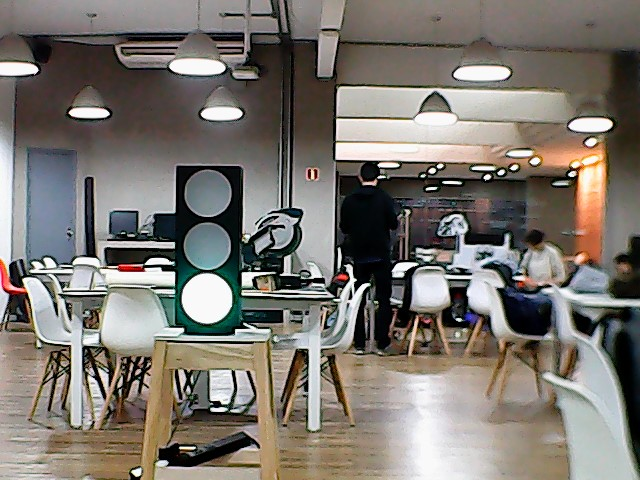verde: (170, 160, 248, 338)
